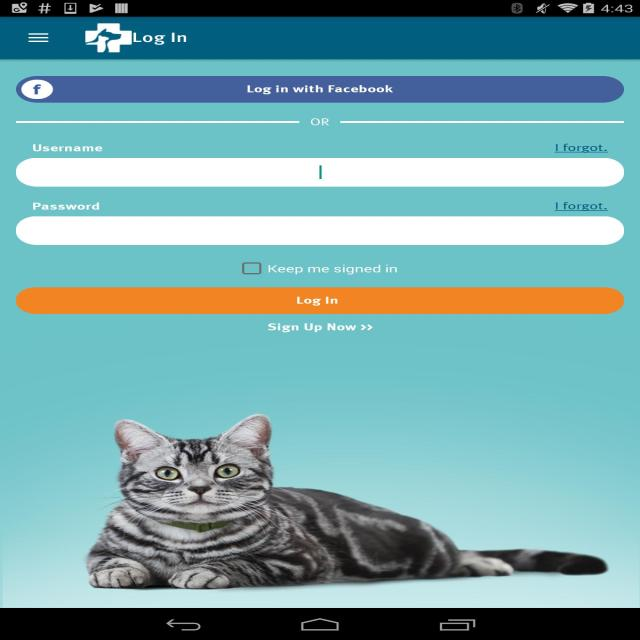button: (19, 73, 624, 105), (17, 286, 623, 315), (26, 29, 49, 47), (244, 262, 260, 275)
field: (15, 215, 626, 247), (16, 157, 622, 187)
heading: (131, 29, 193, 46)
image: (78, 416, 610, 590), (84, 23, 132, 54)
label: (30, 143, 105, 155), (29, 201, 102, 212)
link: (266, 321, 376, 334), (552, 199, 611, 212), (552, 142, 612, 154)
text: (264, 263, 400, 277), (305, 117, 335, 130)
